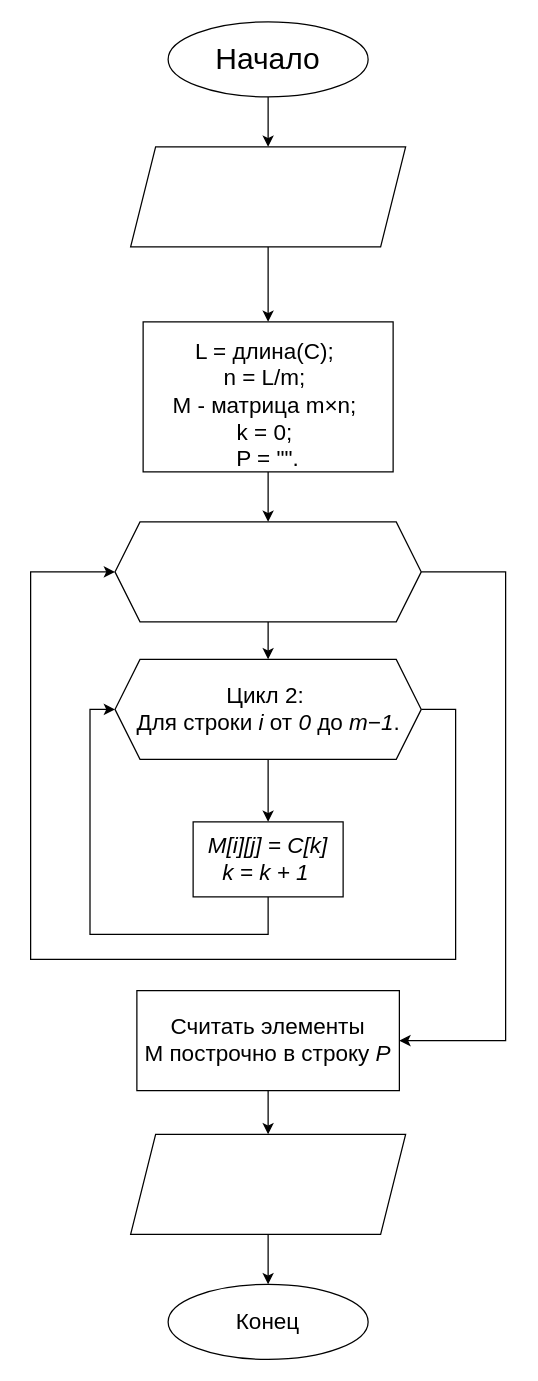
Some shapes in this 538 by 1381 pixel diagram are drawn without their labels. Here are the shapes that lost their labels. From the top down, the box of each, then its label:
(129, 146, 406, 247): Ввод: ши фротекст С; клю ч m
(114, 521, 421, 622): Цикл 1: Для столбца j от 0 до n−1 .
(129, 1133, 406, 1234): Вывод P
